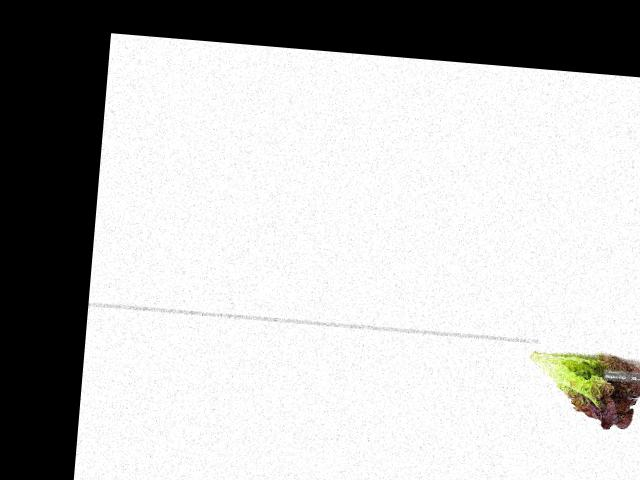lettuce: (520, 343, 640, 433)
